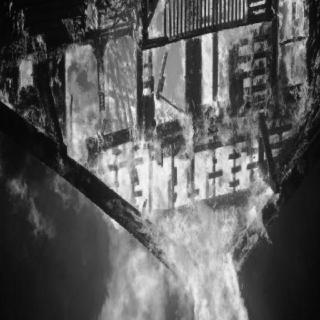Fire: (5, 6, 311, 257), (99, 260, 250, 319)
